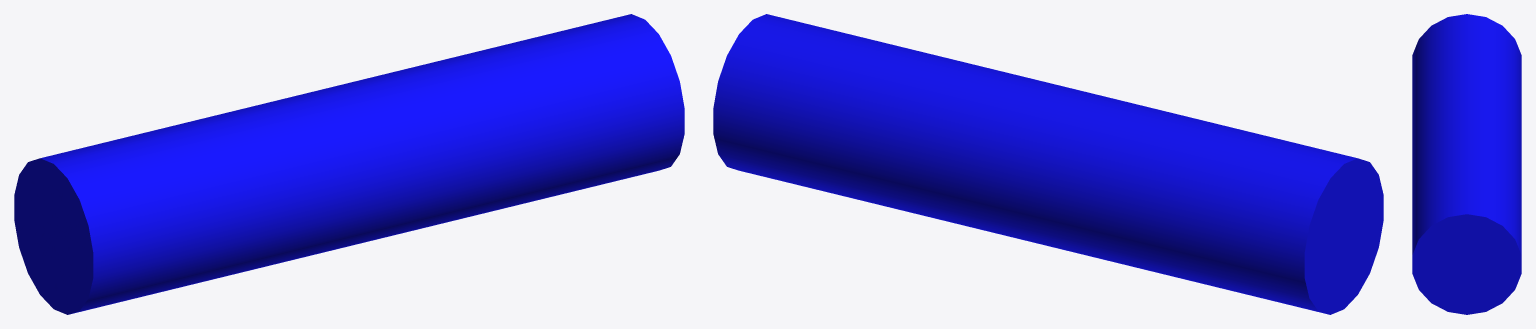
Rendered from Bollot_Blue.FBX.
3 renders of one model, left to right at view 1: azimuth 30°, elevation 25°; view 2: azimuth 150°, elevation 25°; view 3: azimuth 270°, elevation 25°, orthographic. The views are drawn at different scales.
Parts seen in each view (by area): view 1: Cylinder001; view 2: Cylinder001; view 3: Cylinder001.
Part boxes in pixels (bbox=[...]): Cylinder001: bbox=[14, 14, 684, 314]; Cylinder001: bbox=[713, 14, 1383, 314]; Cylinder001: bbox=[1412, 14, 1521, 314].
Bounding box in the file's own units: 1234 × 290 × 286.
